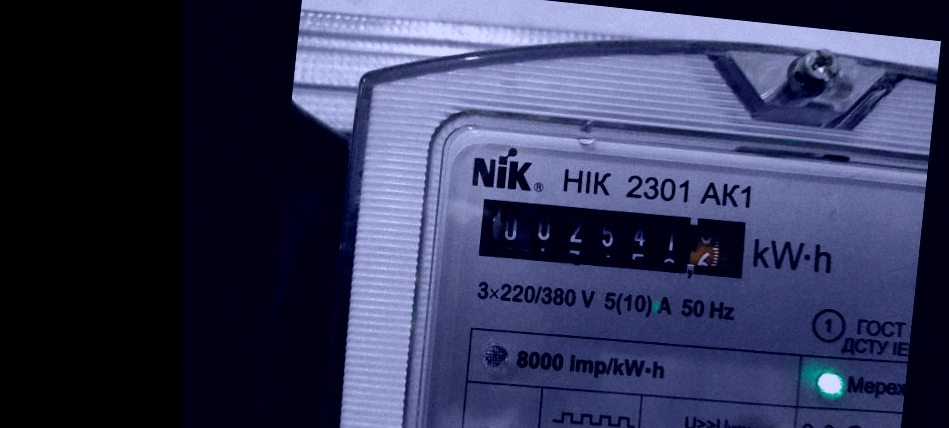0: (533, 208, 555, 243), (502, 211, 522, 242)
1: (661, 218, 680, 253)
2: (564, 210, 588, 246)
4: (630, 216, 650, 249)
5: (598, 216, 617, 249)
6: (694, 246, 712, 268)
screen: (462, 178, 770, 299)
